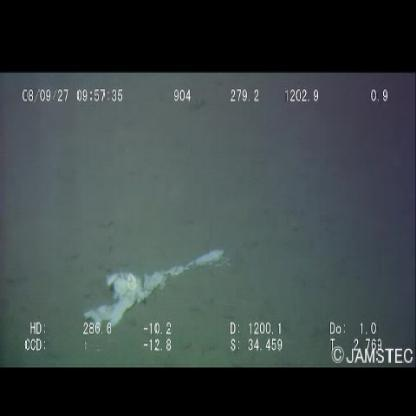Rác: (86, 250, 224, 332)
